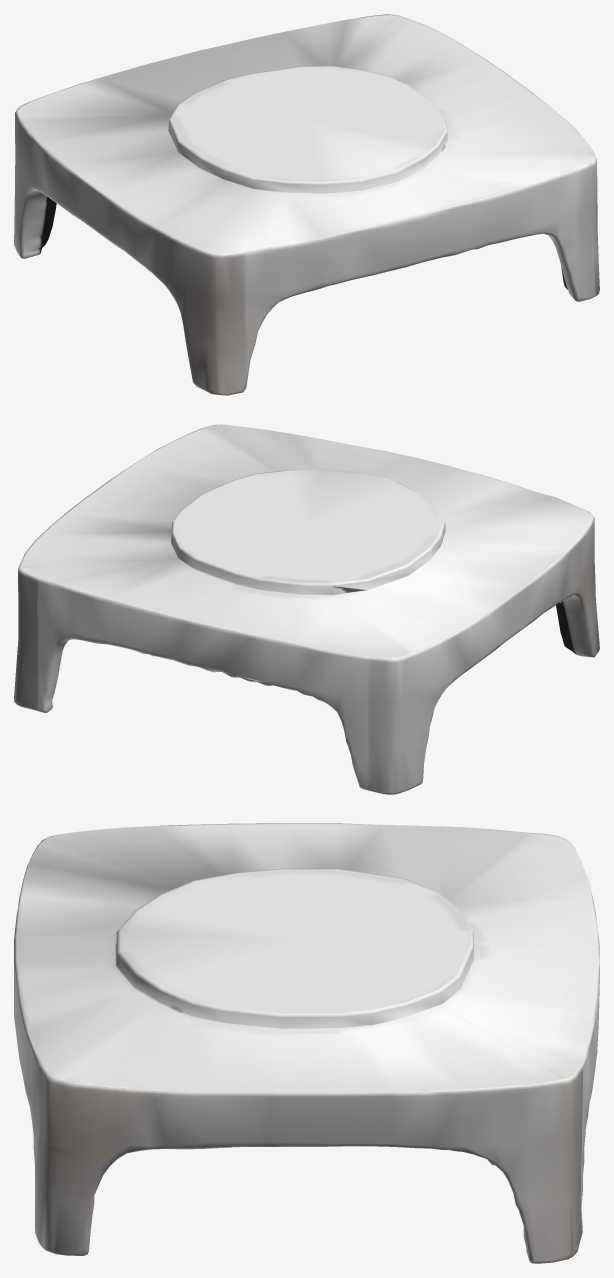
The model's file is Table_Coffee_White_20InchesTall_0222193039_texture.glb.
3 views of the same model, one above another, from view 1: azimuth 30°, elevation 25°; view 2: azimuth 150°, elevation 25°; view 3: azimuth 270°, elevation 25° (orthographic). The views are drawn at different scales.
Visible parts, largest first — view 1: Mesh_0.001; view 2: Mesh_0.001; view 3: Mesh_0.001.
Part boxes in pixels (x1,y1,x2,y2): Mesh_0.001: [14, 14, 599, 395]; Mesh_0.001: [14, 424, 599, 794]; Mesh_0.001: [14, 823, 599, 1263].
Bounding box in the file's own units: 1.49 × 0.508 × 1.37.
Materials: 1 (1 with a texture image).
